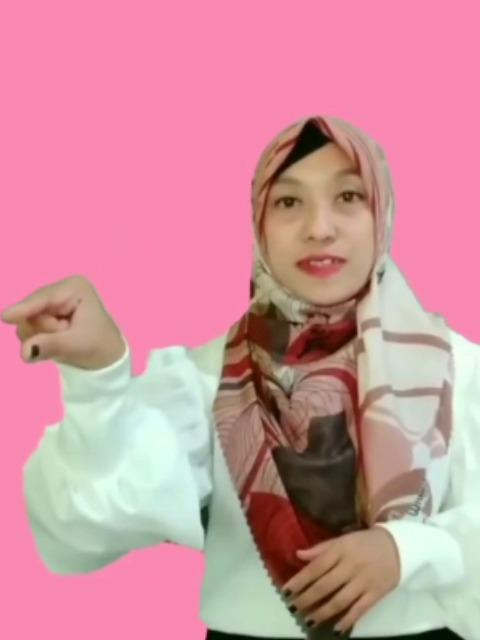G: (2, 272, 124, 368)
